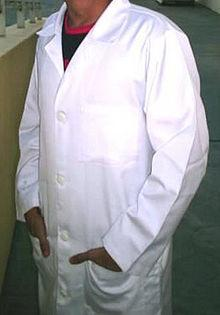lab_coat: (15, 1, 208, 315)
